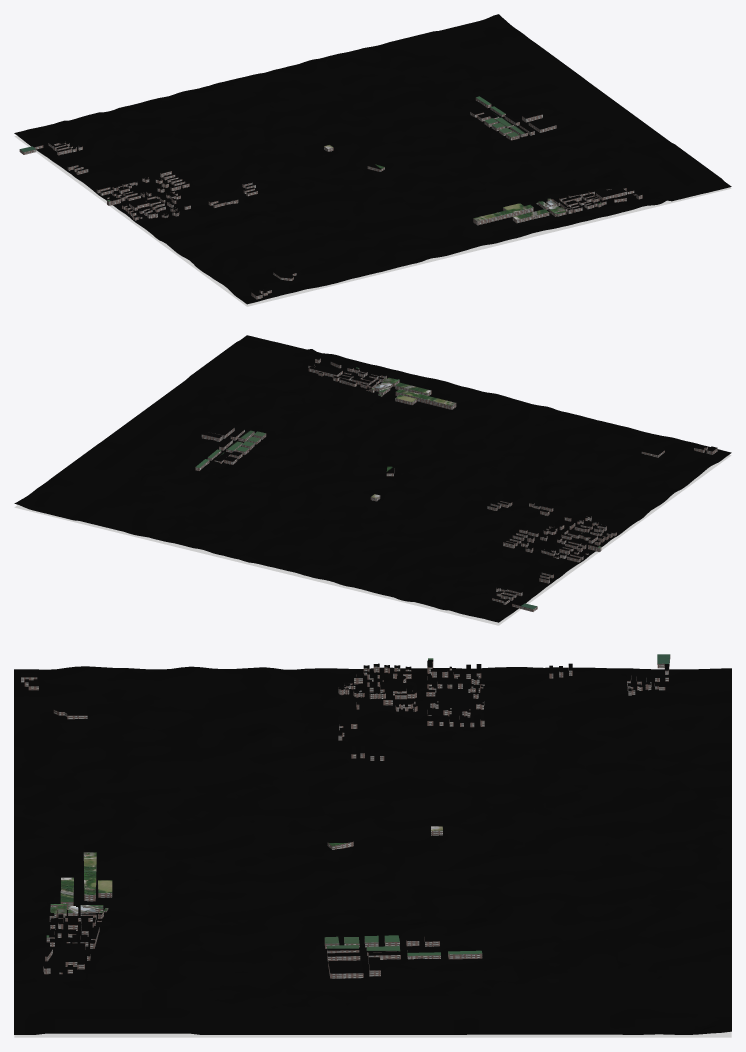
Rendered from forest.dae.
The picture shows the model from 3 angles, top to bottom: view 1: azimuth 30°, elevation 25°; view 2: azimuth 150°, elevation 25°; view 3: azimuth 270°, elevation 25°; orthographic projection. The views are drawn at different scales.
Visible parts, largest first — view 1: Terrain, map_30.osm_buildings, map_30.osm_buildings.001, Terrain_envelope; view 2: Terrain, map_30.osm_buildings, map_30.osm_buildings.001, Terrain_envelope; view 3: Terrain, map_30.osm_buildings.001, map_30.osm_buildings, Terrain_envelope.
Part boxes in pixels (x1,y1,x2,y2): Terrain: [14, 14, 731, 304]; map_30.osm_buildings: [19, 97, 642, 299]; map_30.osm_buildings.001: [20, 96, 642, 295]; Terrain_envelope: [14, 135, 731, 306]; Terrain: [14, 335, 731, 622]; map_30.osm_buildings: [195, 358, 717, 611]; map_30.osm_buildings.001: [195, 357, 717, 609]; Terrain_envelope: [14, 454, 731, 625]; Terrain: [14, 666, 731, 1034]; map_30.osm_buildings.001: [21, 654, 670, 973]; map_30.osm_buildings: [21, 655, 670, 978]; Terrain_envelope: [14, 1031, 731, 1037].
Size of the model in its own units: 2639 by 2134 by 40.12.
